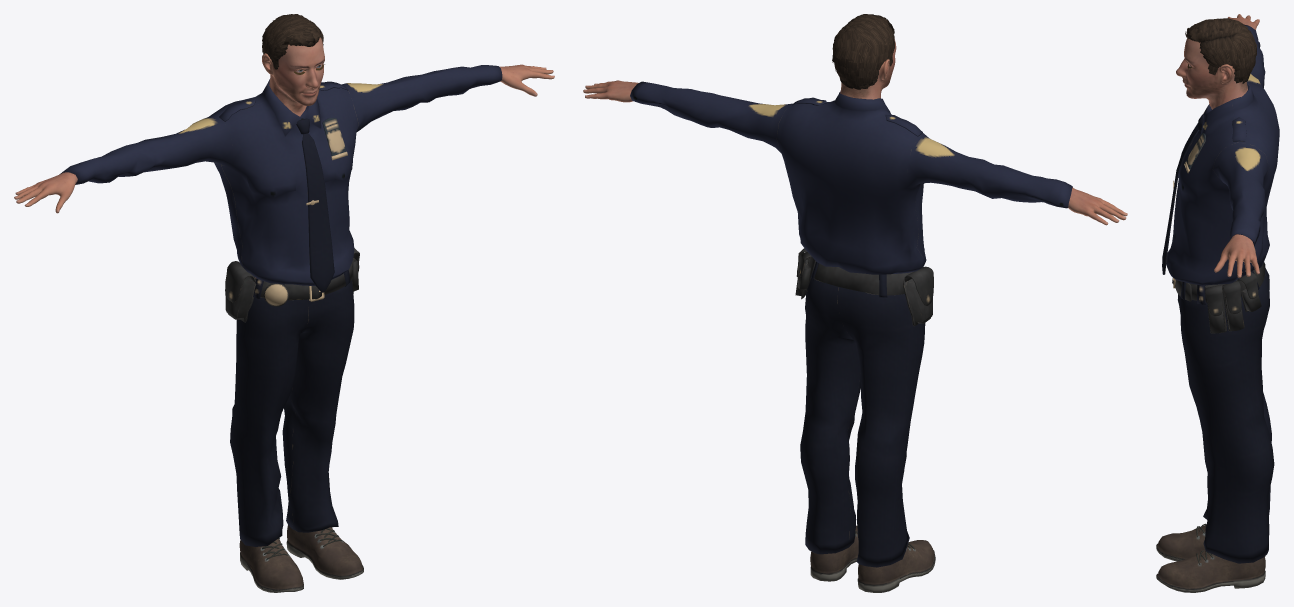
The model's file is Realistic Male Police Officer.obj.
The picture shows the model from 3 angles, left to right: view 1: azimuth 30°, elevation 25°; view 2: azimuth 150°, elevation 25°; view 3: azimuth 270°, elevation 25°; orthographic projection.
Visible parts, largest first — view 1: Tops, Bottoms, Body, Shoes, Hair; view 2: Tops, Bottoms, Hair, Shoes, Body; view 3: Bottoms, Tops, Shoes, Body, Hair.
Part boxes in pixels (bbox=[...]): Tops: bbox=[59, 65, 502, 292]; Bottoms: bbox=[225, 248, 359, 546]; Body: bbox=[14, 37, 554, 278]; Shoes: bbox=[239, 525, 363, 592]; Hair: bbox=[262, 14, 323, 69]; Tops: bbox=[630, 81, 1072, 274]; Bottoms: bbox=[795, 248, 933, 567]; Hair: bbox=[832, 14, 894, 89]; Shoes: bbox=[810, 525, 935, 592]; Body: bbox=[583, 39, 1127, 225]; Bottoms: bbox=[1172, 262, 1274, 563]; Tops: bbox=[1162, 24, 1279, 285]; Shoes: bbox=[1156, 523, 1265, 592]; Body: bbox=[1176, 14, 1259, 277]; Hair: bbox=[1185, 18, 1256, 83].
Size of the model in its own units: 185 by 181 by 36.87.
Materials: 1 (1 with a texture image).
